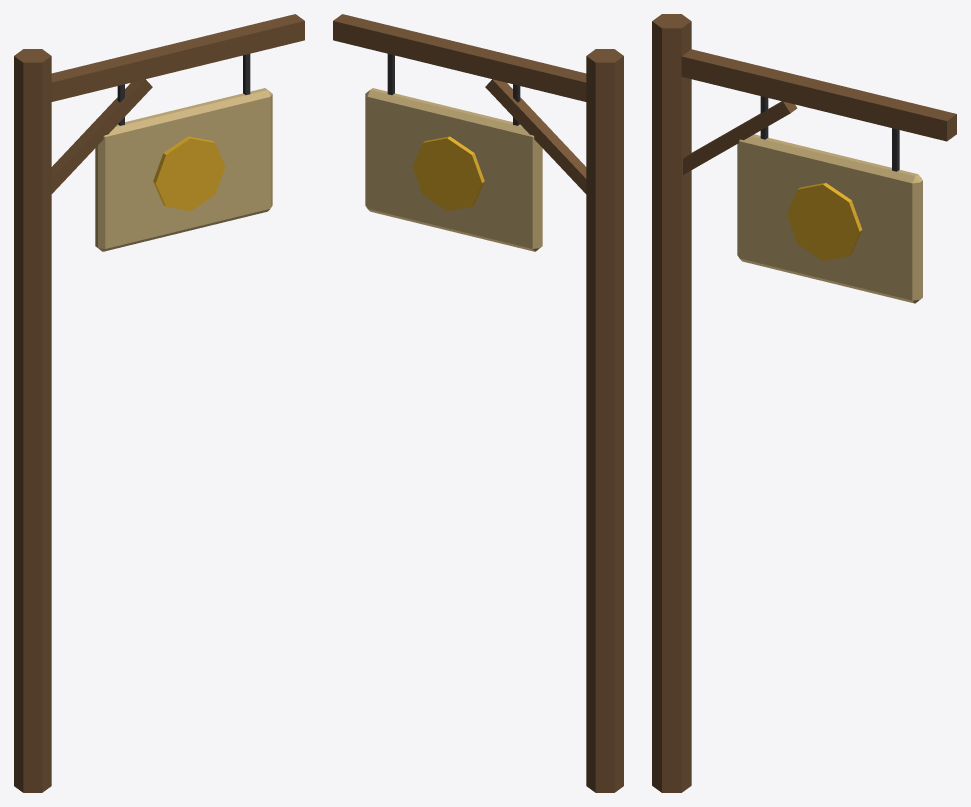
The model's file is shop_sign.glb.
The picture shows the model from 3 angles, left to right: view 1: azimuth 30°, elevation 25°; view 2: azimuth 150°, elevation 25°; view 3: azimuth 330°, elevation 25°; orthographic projection. The views are drawn at different scales.
Parts seen in each view (by area): view 1: shop_sign; view 2: shop_sign; view 3: shop_sign.
Boxes of the visible parts, x1,y1,x2,y2 form: shop_sign: (14,14,304,792); shop_sign: (333,14,623,792); shop_sign: (652,14,956,792).
Size of the model in its own units: 1.21 by 3 by 0.14.
